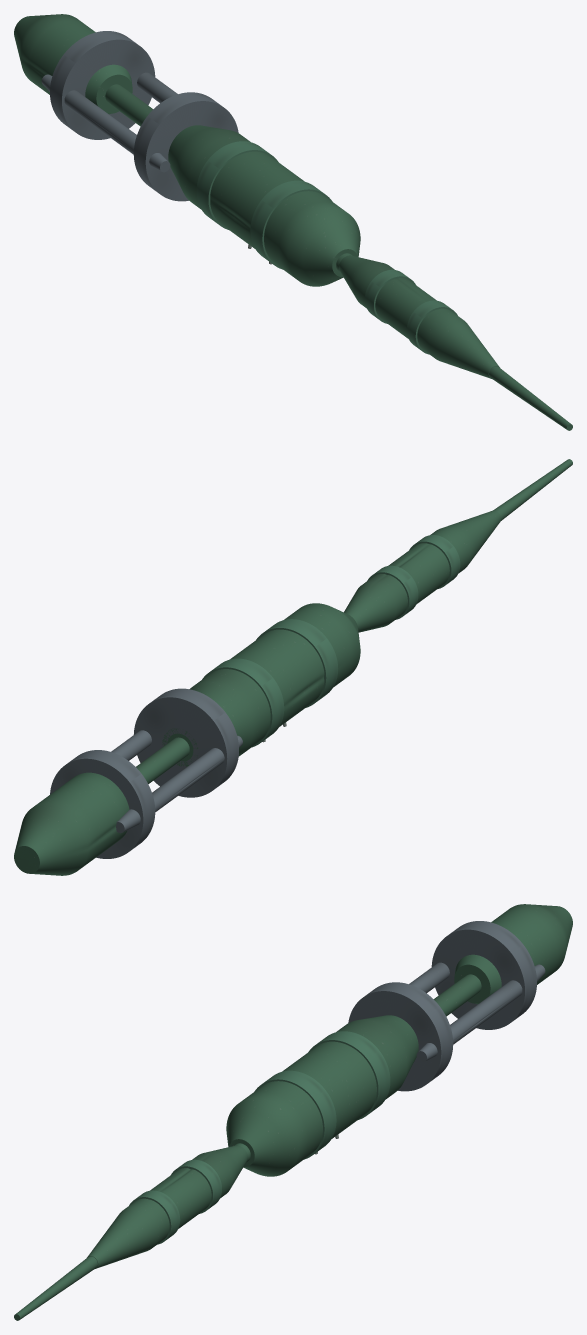
The picture shows the model from 3 angles, top to bottom: view 1: azimuth 30°, elevation 25°; view 2: azimuth 150°, elevation 25°; view 3: azimuth 330°, elevation 25°; orthographic projection.
Visible parts, largest first — view 1: Mikotaj Greek Fire green central body, Mikotaj Greek Fire green forward expansion, Mikotaj Greek Fire rear grey frame, Mikotaj Greek Fire forward grey frame, Mikotaj Greek Fire green rear plug, Mikotaj Greek Fire green axial needle, Mikotaj Greek Fire grey left brace, Mikotaj Greek Fire pale band 3, Mikotaj Greek Fire pale band 2, Mikotaj Greek Fire pale band 1, Mikotaj Greek Fire pale band 0, Mikotaj Greek Fire grey right brace; view 2: Mikotaj Greek Fire green central body, Mikotaj Greek Fire green rear plug, Mikotaj Greek Fire green forward expansion, Mikotaj Greek Fire forward grey frame, Mikotaj Greek Fire rear grey frame, Mikotaj Greek Fire green axial needle, Mikotaj Greek Fire grey left brace, Mikotaj Greek Fire pale band 3, Mikotaj Greek Fire pale band 2, Mikotaj Greek Fire pale band 0, Mikotaj Greek Fire pale band 1, Mikotaj Greek Fire grey right brace; view 3: Mikotaj Greek Fire green central body, Mikotaj Greek Fire green forward expansion, Mikotaj Greek Fire rear grey frame, Mikotaj Greek Fire forward grey frame, Mikotaj Greek Fire green rear plug, Mikotaj Greek Fire green axial needle, Mikotaj Greek Fire grey right brace, Mikotaj Greek Fire pale band 2, Mikotaj Greek Fire pale band 3, Mikotaj Greek Fire pale band 1, Mikotaj Greek Fire pale band 0, Mikotaj Greek Fire grey left brace.
Boxes of the visible parts, x1,y1,x2,y2 form: Mikotaj Greek Fire green central body: [168, 125, 360, 286]; Mikotaj Greek Fire green forward expansion: [339, 255, 499, 378]; Mikotaj Greek Fire rear grey frame: [50, 31, 155, 139]; Mikotaj Greek Fire forward grey frame: [133, 92, 238, 201]; Mikotaj Greek Fire green rear plug: [14, 14, 132, 114]; Mikotaj Greek Fire green axial needle: [105, 84, 572, 430]; Mikotaj Greek Fire grey left brace: [41, 74, 170, 172]; Mikotaj Greek Fire pale band 3: [196, 141, 278, 229]; Mikotaj Greek Fire pale band 2: [250, 180, 332, 269]; Mikotaj Greek Fire pale band 1: [365, 269, 415, 323]; Mikotaj Greek Fire pale band 0: [406, 300, 457, 354]; Mikotaj Greek Fire grey right brace: [137, 72, 177, 103]; Mikotaj Greek Fire green central body: [162, 603, 360, 766]; Mikotaj Greek Fire green rear plug: [14, 772, 129, 875]; Mikotaj Greek Fire green forward expansion: [344, 510, 501, 632]; Mikotaj Greek Fire forward grey frame: [133, 688, 238, 797]; Mikotaj Greek Fire rear grey frame: [50, 750, 155, 858]; Mikotaj Greek Fire green axial needle: [20, 459, 572, 866]; Mikotaj Greek Fire grey left brace: [116, 735, 242, 833]; Mikotaj Greek Fire pale band 3: [202, 658, 284, 747]; Mikotaj Greek Fire pale band 2: [256, 619, 337, 707]; Mikotaj Greek Fire pale band 0: [409, 535, 460, 588]; Mikotaj Greek Fire pale band 1: [367, 565, 418, 619]; Mikotaj Greek Fire grey right brace: [111, 730, 151, 760]; Mikotaj Greek Fire green central body: [226, 1015, 418, 1176]; Mikotaj Greek Fire green forward expansion: [87, 1145, 247, 1268]; Mikotaj Greek Fire rear grey frame: [431, 921, 536, 1029]; Mikotaj Greek Fire forward grey frame: [348, 982, 453, 1091]; Mikotaj Greek Fire green rear plug: [454, 904, 572, 1004]; Mikotaj Greek Fire green axial needle: [14, 974, 481, 1320]; Mikotaj Greek Fire grey right brace: [416, 964, 545, 1062]; Mikotaj Greek Fire pale band 2: [254, 1070, 336, 1159]; Mikotaj Greek Fire pale band 3: [308, 1031, 390, 1119]; Mikotaj Greek Fire pale band 1: [171, 1159, 221, 1213]; Mikotaj Greek Fire pale band 0: [129, 1190, 180, 1244]; Mikotaj Greek Fire grey left brace: [409, 962, 449, 993].
Size of the model in its own units: 0.18 by 0.18 by 1.81.
Materials: 5 (3 with a texture image).
